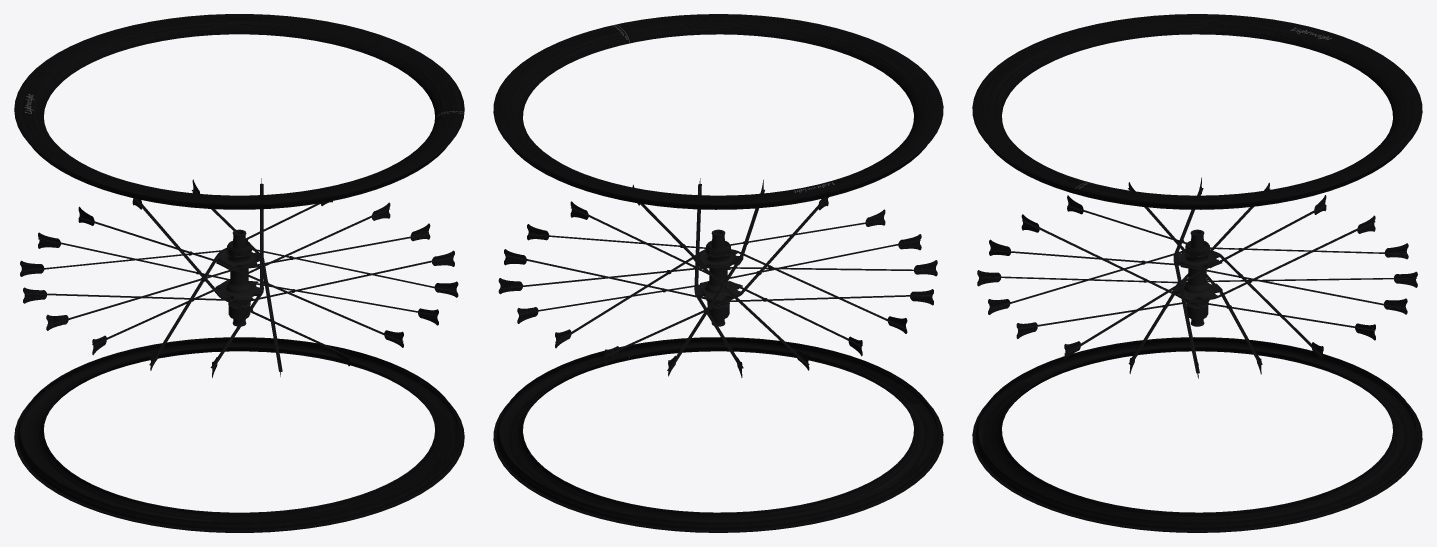
File: LW_Light_preview_01.glb
3 views of the same model, side by side, from view 1: azimuth 30°, elevation 25°; view 2: azimuth 150°, elevation 25°; view 3: azimuth 270°, elevation 25° (orthographic).
Visible parts, largest first — view 1: RAF, RAF_mirror, Vyplet, Naboj; view 2: RAF, RAF_mirror, Vyplet, Naboj; view 3: RAF, RAF_mirror, Vyplet, Naboj.
Part boxes in pixels (bbox=[...]): RAF: bbox=[14, 14, 464, 209]; RAF_mirror: bbox=[14, 337, 464, 532]; Vyplet: bbox=[20, 178, 458, 377]; Naboj: bbox=[214, 229, 263, 326]; RAF: bbox=[493, 14, 943, 209]; RAF_mirror: bbox=[493, 337, 943, 532]; Vyplet: bbox=[498, 178, 937, 377]; Naboj: bbox=[693, 229, 743, 326]; RAF: bbox=[972, 14, 1422, 209]; RAF_mirror: bbox=[972, 337, 1422, 532]; Vyplet: bbox=[977, 177, 1417, 378]; Naboj: bbox=[1172, 229, 1222, 326].
Size of the model in its own units: 0.6319 by 0.5114 by 0.6317.
4 materials, 4 textured.
